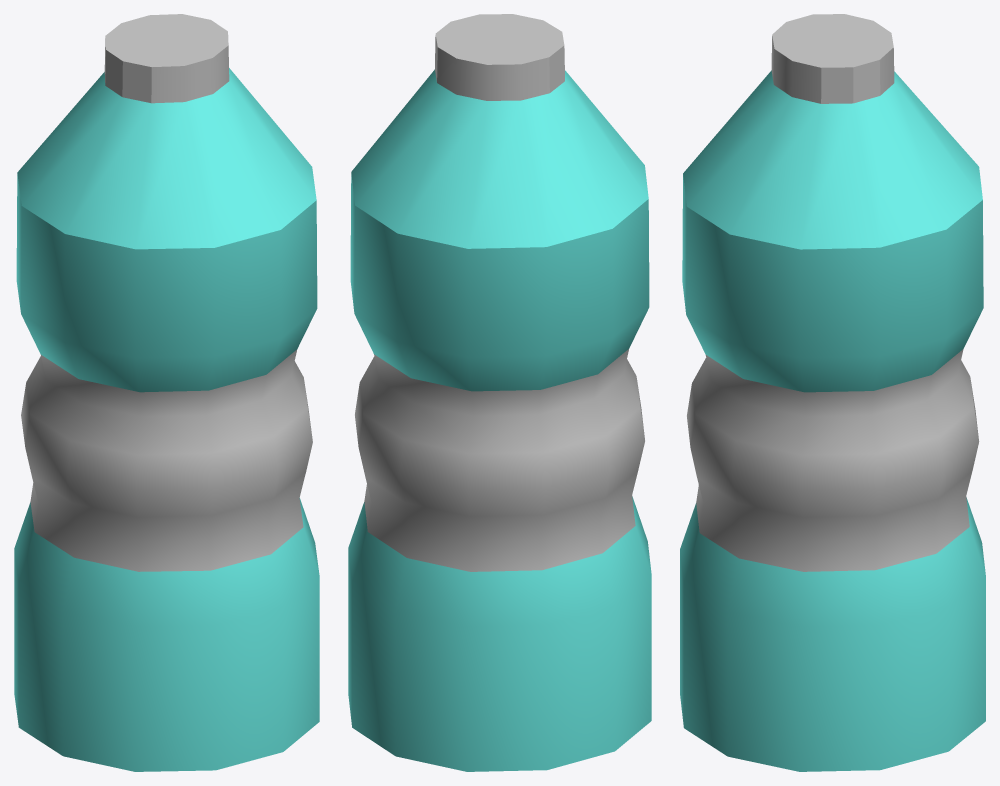
File: botellaAgua2.fbx
The picture shows the model from 3 angles, left to right: view 1: azimuth 30°, elevation 25°; view 2: azimuth 150°, elevation 25°; view 3: azimuth 270°, elevation 25°; orthographic projection.
Parts seen in each view (by area): view 1: Object002; view 2: Object002; view 3: Object002.
Part boxes in pixels (<box>): Object002: <box>14,14,319,771</box>; Object002: <box>348,14,651,771</box>; Object002: <box>680,14,985,771</box>.
Bounding box in the file's own units: 8.65 × 20.97 × 8.72.
